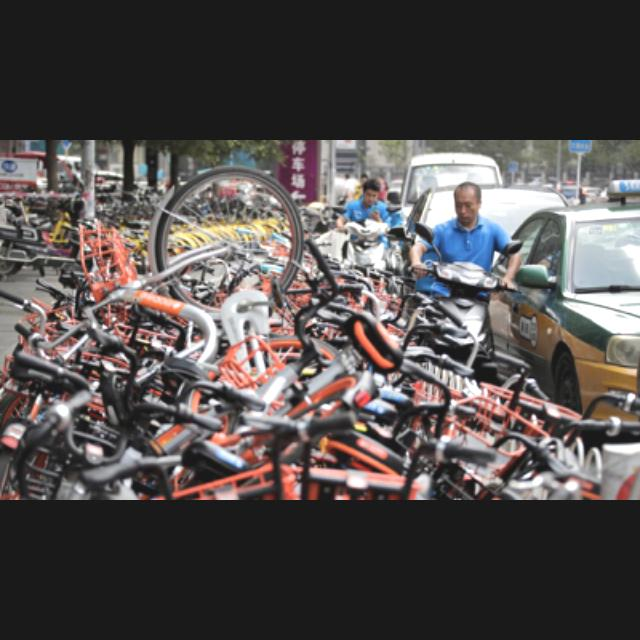Without Helmet: (452, 180, 488, 226), (358, 172, 382, 208)
